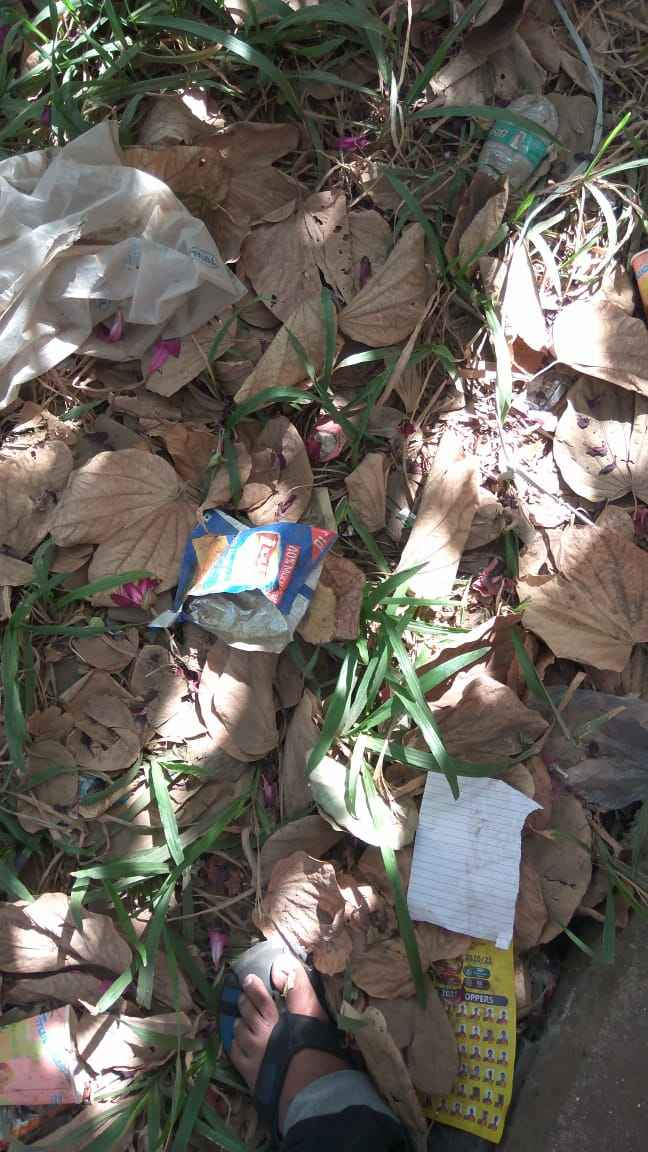Lays: (225, 525, 287, 606)
